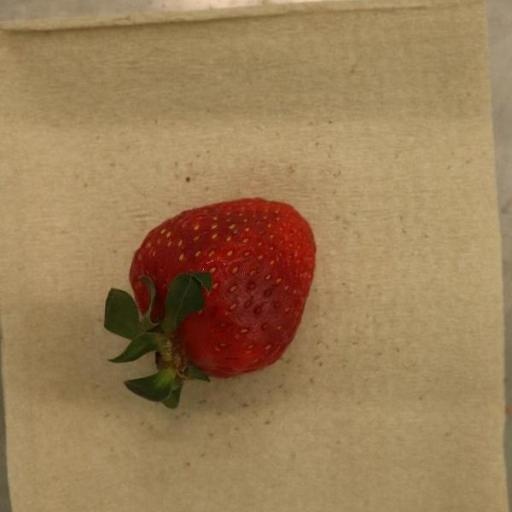Strawberry: (103, 198, 316, 410)
